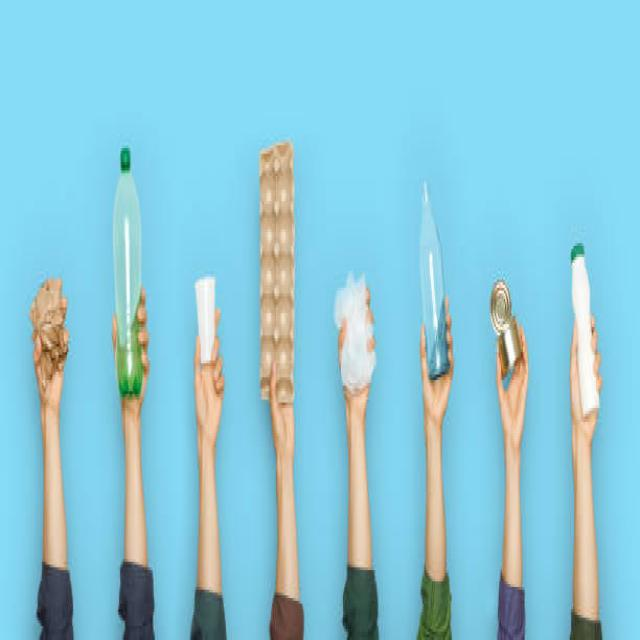cardboard: (244, 125, 300, 428)
glass: (412, 170, 454, 374)
metal: (487, 280, 524, 374)
paper: (26, 271, 69, 377)
plastic: (109, 131, 152, 397), (566, 235, 602, 425), (332, 268, 380, 392), (188, 262, 214, 372)
